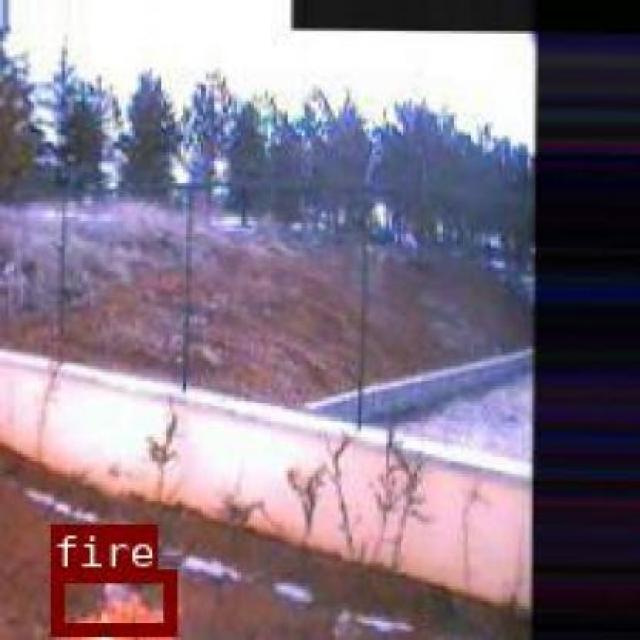Fire: (48, 568, 174, 634)
